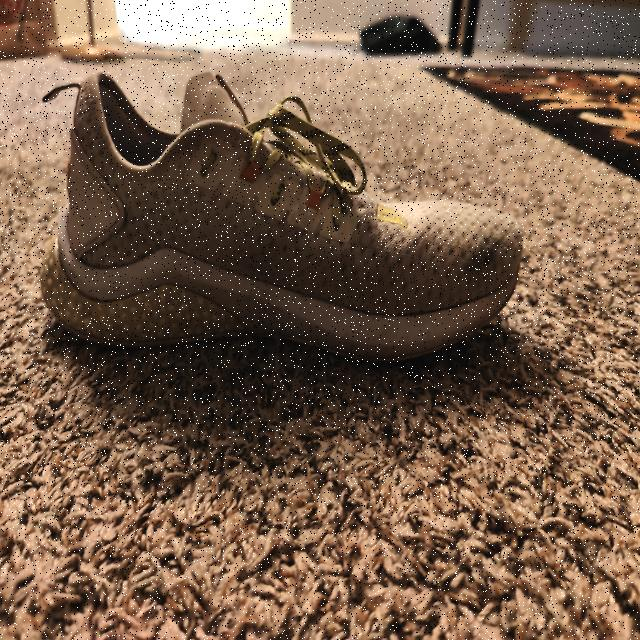white shoes: (53, 134, 515, 332)
